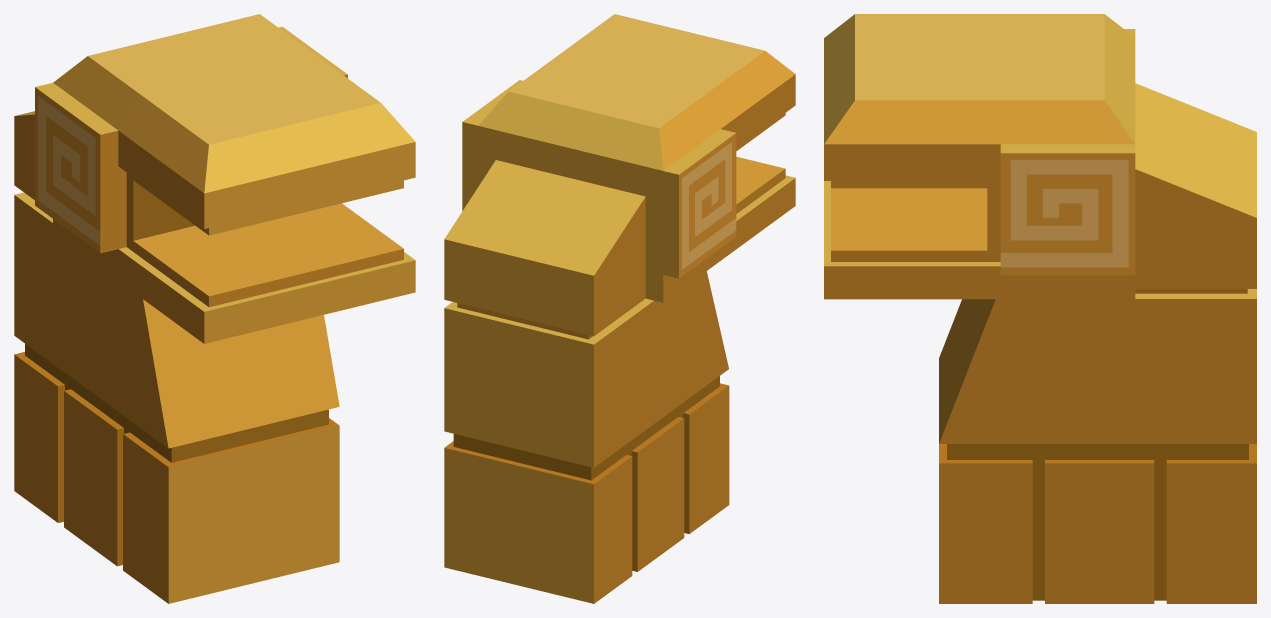
File: ST_Prop_Idol_01.fbx
3 renders of one model, left to right at view 1: azimuth 30°, elevation 25°; view 2: azimuth 150°, elevation 25°; view 3: azimuth 270°, elevation 25°, orthographic. The views are drawn at different scales.
Parts seen in each view (by area): view 1: ST_Prop_Idol_01; view 2: ST_Prop_Idol_01; view 3: ST_Prop_Idol_01.
Boxes of the visible parts, x1=… form: ST_Prop_Idol_01: x1=14, y1=14, x2=415, y2=603; ST_Prop_Idol_01: x1=444, y1=14, x2=795, y2=603; ST_Prop_Idol_01: x1=824, y1=14, x2=1256, y2=603.
Bounding box in the file's own units: 0.3766 × 0.7115 × 0.554.
